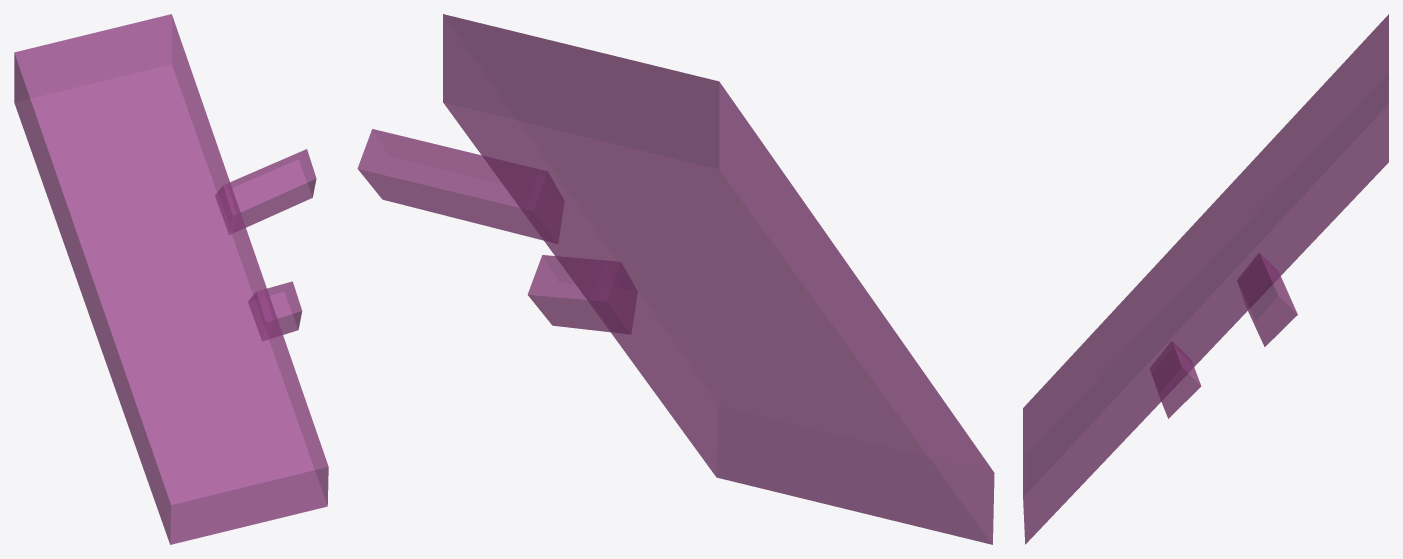
Rendered from SM_Bld_Roof_Ruin_End_01_Collision.fbx.
The picture shows the model from 3 angles, left to right: view 1: azimuth 30°, elevation 25°; view 2: azimuth 150°, elevation 25°; view 3: azimuth 270°, elevation 25°; orthographic projection. The views are drawn at different scales.
Visible parts, largest first — view 1: SM_Bld_Roof_Ruin_End_01_Collision; view 2: SM_Bld_Roof_Ruin_End_01_Collision; view 3: SM_Bld_Roof_Ruin_End_01_Collision.
Part boxes in pixels (x1,y1,x2,y2): SM_Bld_Roof_Ruin_End_01_Collision: [14, 14, 328, 544]; SM_Bld_Roof_Ruin_End_01_Collision: [357, 14, 994, 544]; SM_Bld_Roof_Ruin_End_01_Collision: [1023, 14, 1388, 544].
Bounding box in the file's own units: 230 × 339 × 255.
